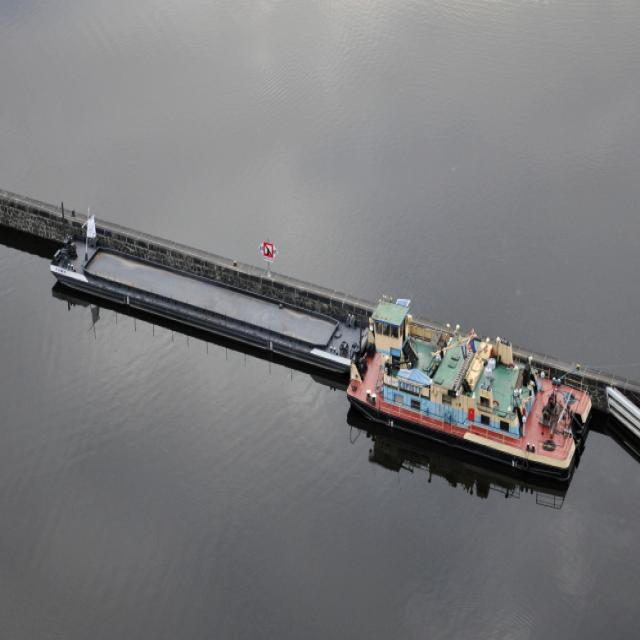tugboat: (345, 293, 599, 496)
